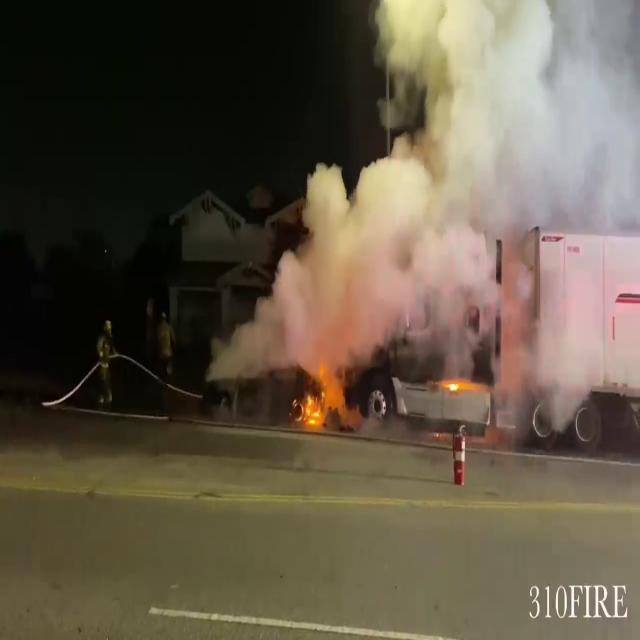Fire: (290, 352, 354, 432), (438, 367, 484, 398)
Smoke: (238, 0, 640, 399)
